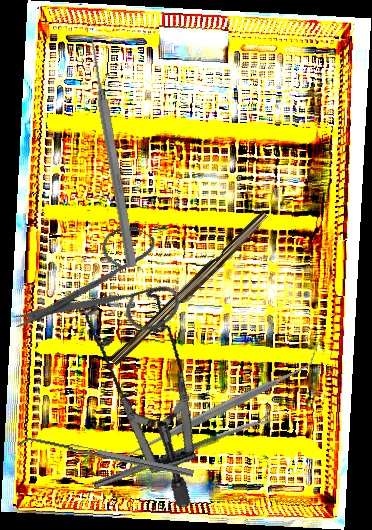Iris Scissors: (8, 196, 204, 395)
Pusher: (84, 34, 140, 269)
Scalpel Handle: (109, 208, 272, 371)
Spatula Surgical: (115, 348, 327, 468), (17, 433, 195, 484)
Speculum: (32, 266, 247, 511)
Surgical Spoon: (92, 414, 274, 490)
